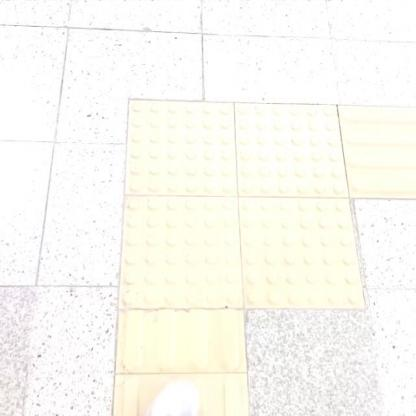podotacti: (103, 55, 384, 337)
